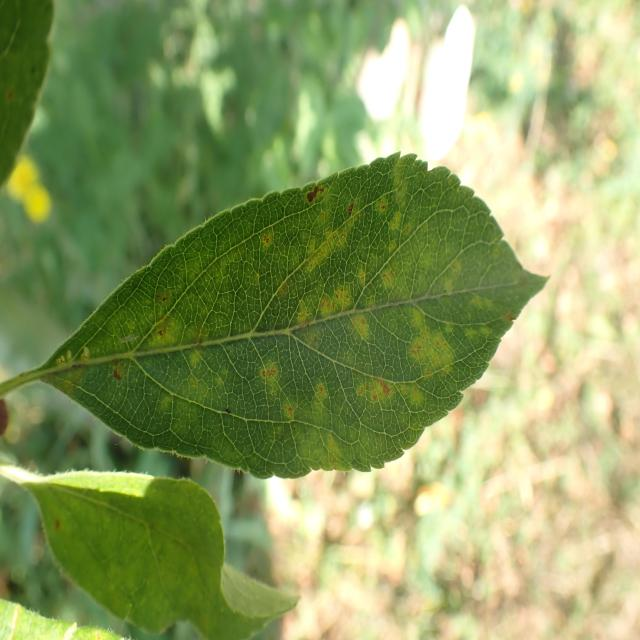scab: (62, 173, 510, 462)
